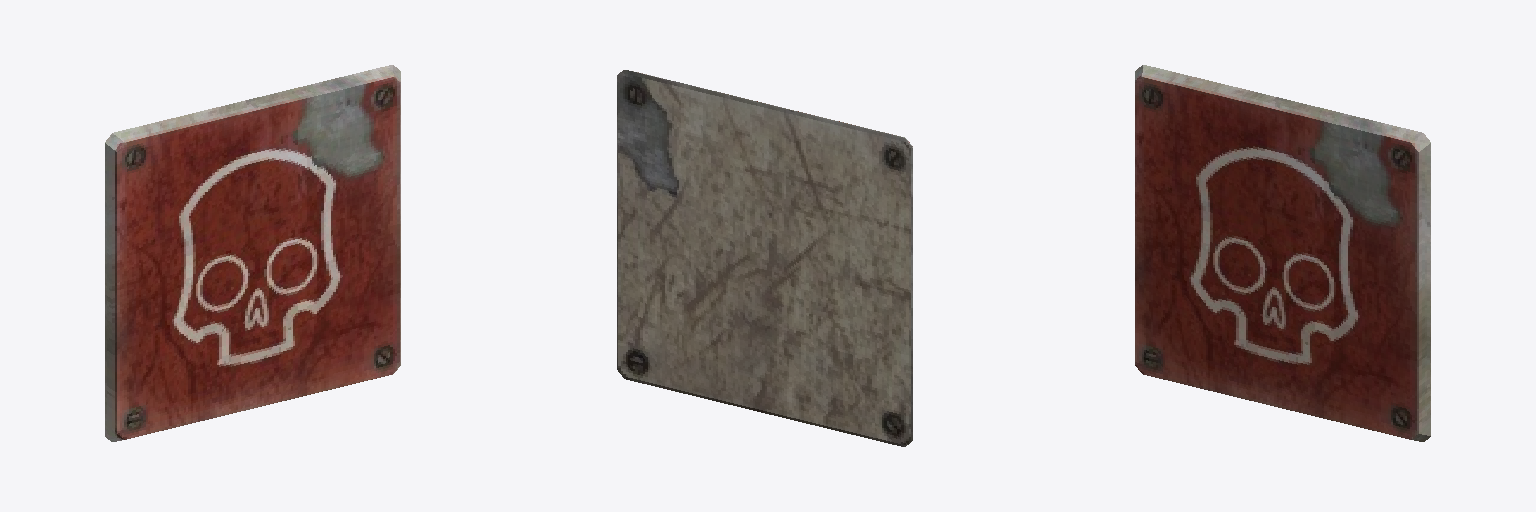
3 renders of one model, left to right at view 1: azimuth 30°, elevation 25°; view 2: azimuth 150°, elevation 25°; view 3: azimuth 330°, elevation 25°, orthographic.
Visible parts, largest first — view 1: SIGN_Max_Warning_Danger; view 2: SIGN_Max_Warning_Danger; view 3: SIGN_Max_Warning_Danger.
Boxes of the visible parts, box(x1,y1,x2,y2) form: SIGN_Max_Warning_Danger: box(105, 65, 400, 441); SIGN_Max_Warning_Danger: box(617, 70, 912, 446); SIGN_Max_Warning_Danger: box(1135, 65, 1430, 441).
Size of the model in its own units: 50 by 50 by 2.
Materials: 1 (1 with a texture image).